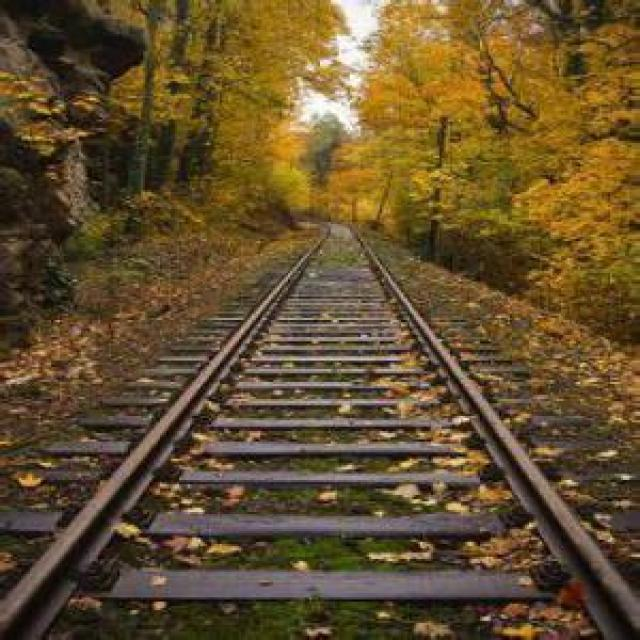rail: (1, 219, 640, 640)
